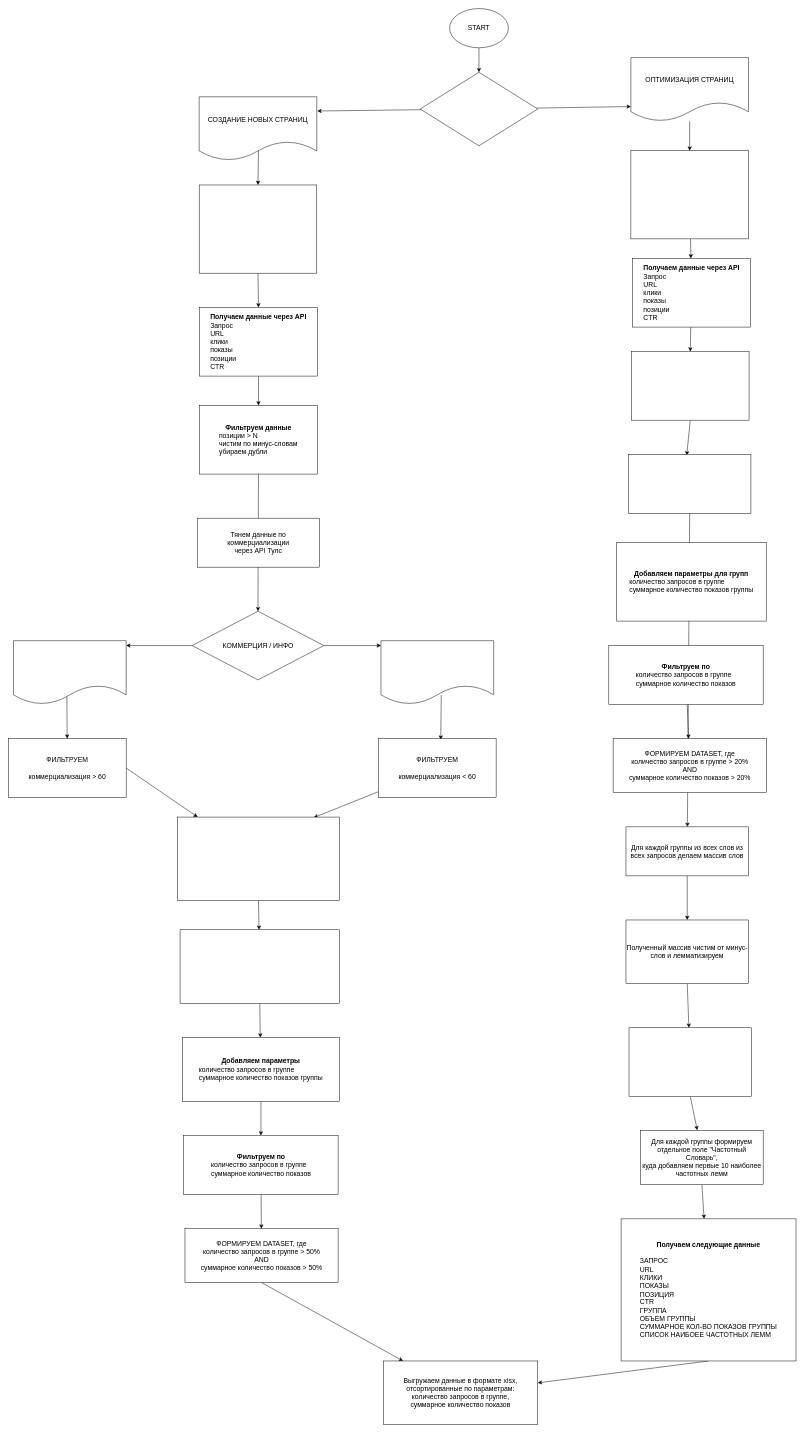
The diagram is 805 pixels wide and 1433 high, and some of its shapes have lost their labels. Each missing label, with the box of its shape:
ВВОДИМ адрес сайта список минус-слов диапазон = 1 месяц: (630, 150, 748, 239)
ВВОДИМ адрес сайта тип: коммерция / инфо список минус-слов диапазон = 1 месяц: (199, 184, 317, 273)
Группируем по URL, чтобы получить кластеры запросов: (628, 454, 751, 513)
Группируем по полю "запрос": (180, 929, 339, 1003)
Для каждого проработанного массива строить частотный словарь: (629, 1027, 752, 1096)
ИНФО: (380, 640, 494, 704)
КОММЕРЦИЯ: (13, 640, 126, 704)
оптимизация страниц или создание новых страниц: (420, 72, 538, 146)
Фильтруем данные 3 > позиции > 15 чистим по минус-словам убираем стоп слова: (631, 351, 749, 420)
ФОРМИРУЕМ DATASET запрос url клики показы CTR позиция коммерциализация: (177, 817, 339, 900)
